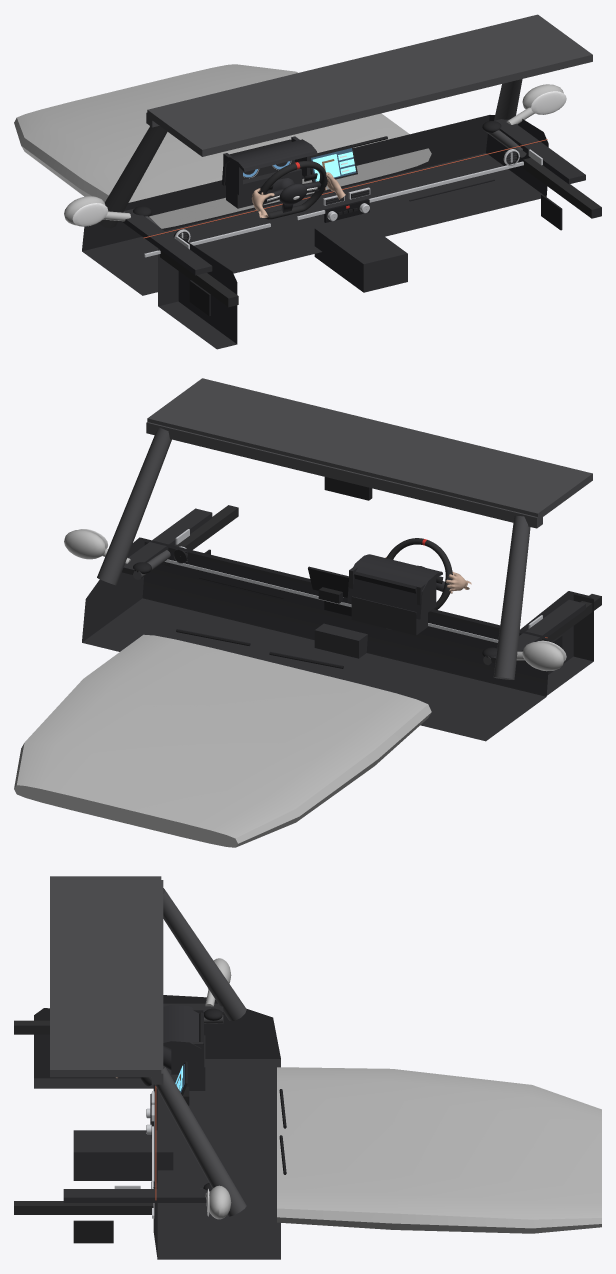
File: cockpit_car.glb
The picture shows the model from 3 angles, top to bottom: view 1: azimuth 30°, elevation 25°; view 2: azimuth 150°, elevation 25°; view 3: azimuth 270°, elevation 25°; orthographic projection.
Visible parts, largest first — view 1: Dash, SteerWheel, Hands; view 2: Dash, SteerWheel; view 3: Dash.
Boxes of the visible parts, <box> form: Dash: <box>14,14,601,349</box>; SteerWheel: <box>258,161,327,219</box>; Hands: <box>251,172,345,217</box>; Dash: <box>14,378,601,847</box>; SteerWheel: <box>386,538,452,609</box>; Dash: <box>14,876,601,1259</box>.
Size of the model in its own units: 2.94 by 1.12 by 2.95.
